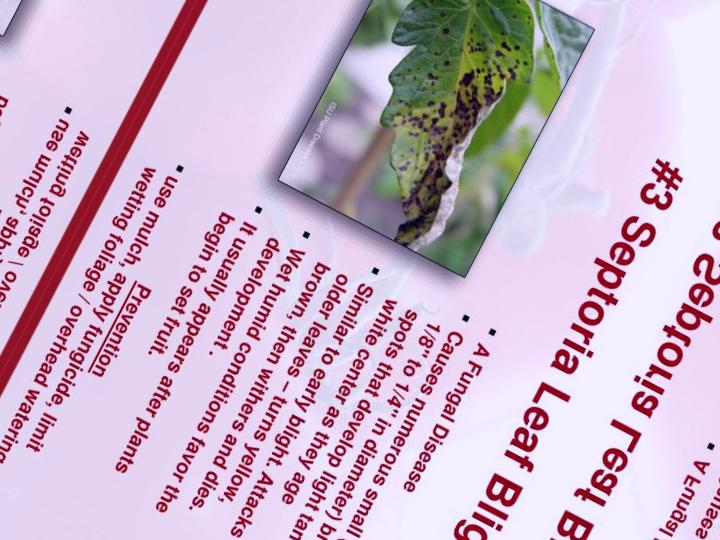Tomato Septoria leaf spot: (299, 0, 558, 258)
